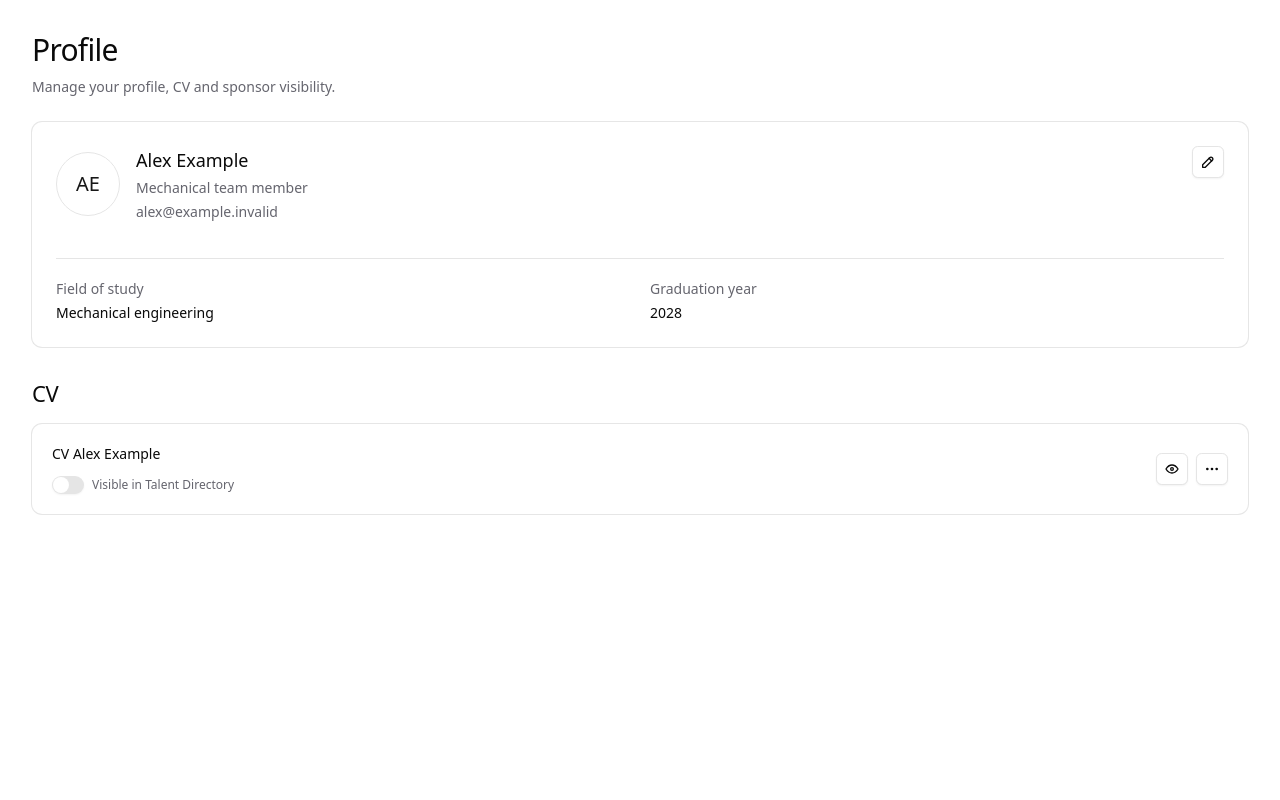
Test case: member profile › keeps sharing on the profile and renders PDF previews with language controls
Expected: the switch is shown, [52,476,84,494]
Step 1. Click the button named "Preview CV" → click(1172, 469), box [1156,453,1188,485]
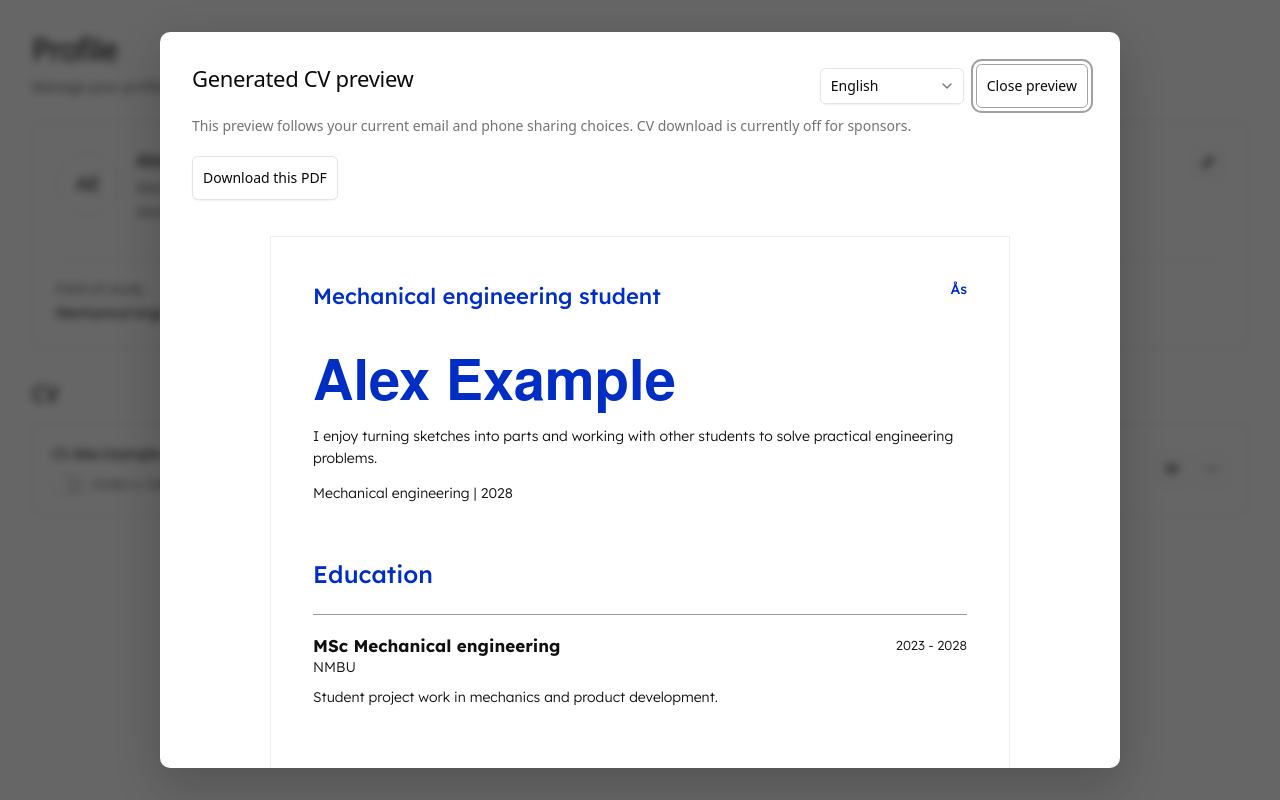
Expected: the dialog with class "mcv-preview-panel" shows "Generated CV preview", [192,63,414,93]
Expected: the dropdown named "Preview language" is shown, [820,68,964,104]
Expected: the element that starts with "Mechanical engineering student" is shown, [313,282,661,310]
